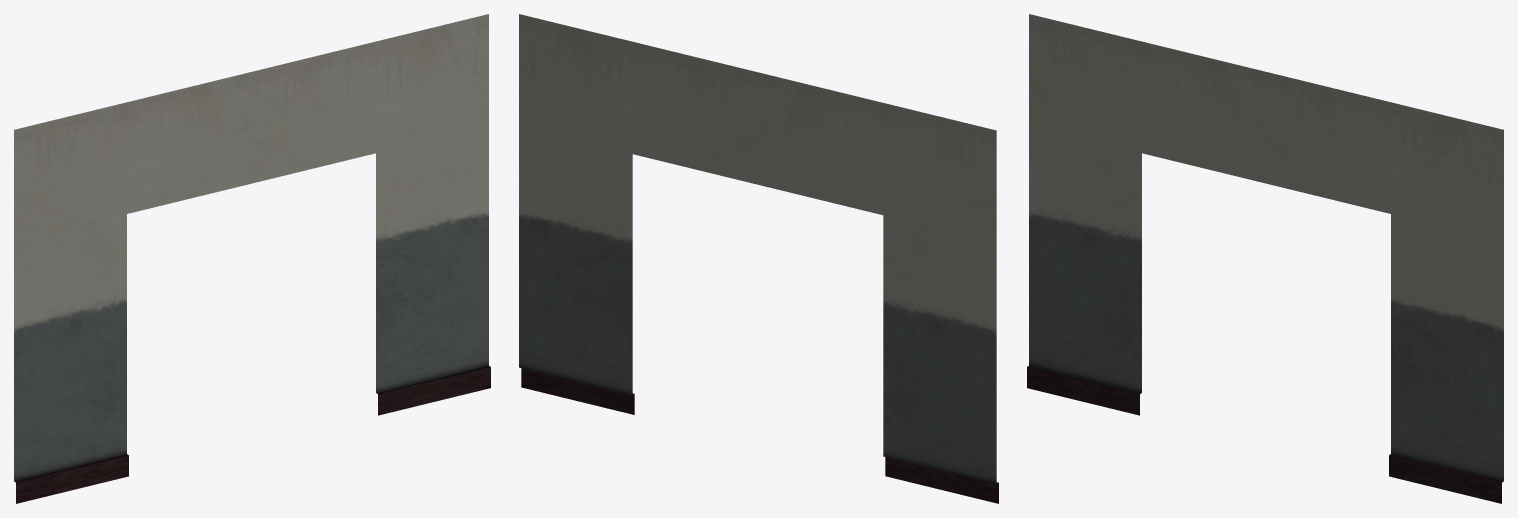
File: Wall 4 Door F.fbx
3 views of the same model, side by side, from view 1: azimuth 30°, elevation 25°; view 2: azimuth 150°, elevation 25°; view 3: azimuth 330°, elevation 25° (orthographic).
Parts seen in each view (by area): view 1: Wall_4_Door_F; view 2: Wall_4_Door_F; view 3: Wall_4_Door_F.
Boxes of the visible parts, x1=… form: Wall_4_Door_F: x1=14, y1=14, x2=490, y2=503; Wall_4_Door_F: x1=519, y1=14, x2=998, y2=503; Wall_4_Door_F: x1=1027, y1=14, x2=1503, y2=503.
Bounding box in the file's own units: 400 × 300 × 3.
